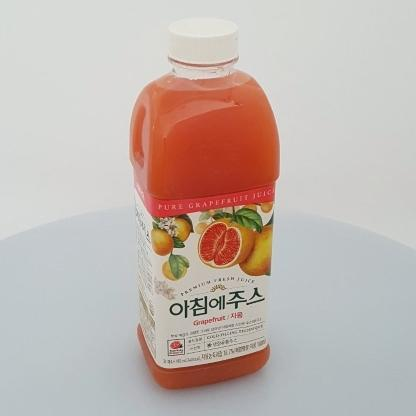-----------950ML: (128, 17, 279, 390)
